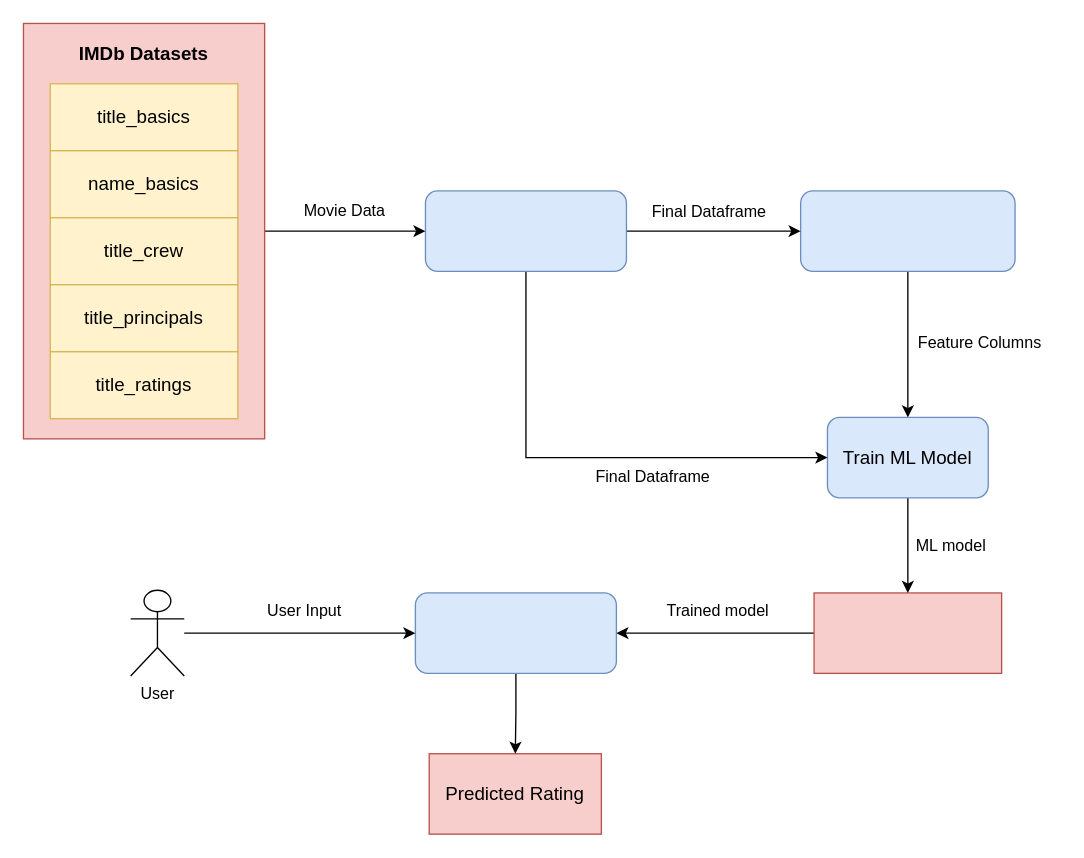
Image size: 1084x858. Some labels were removed from this diagram. The box of each missing label's shape, as (x1, y1, x2, y2) in pixels:
Define Feature Columns: (799, 190, 1015, 271)
Model predict: (414, 592, 616, 673)
Preprocess Data: (424, 190, 626, 271)
Saved Model: (813, 592, 1002, 673)
